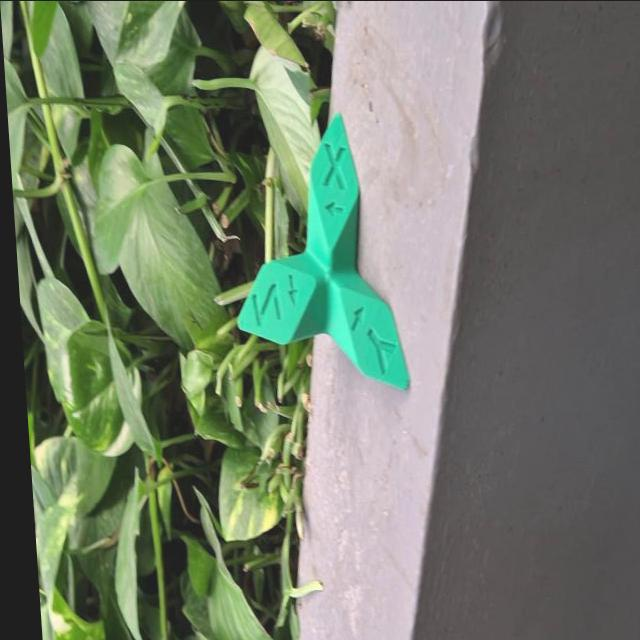eje: (222, 108, 415, 392)
